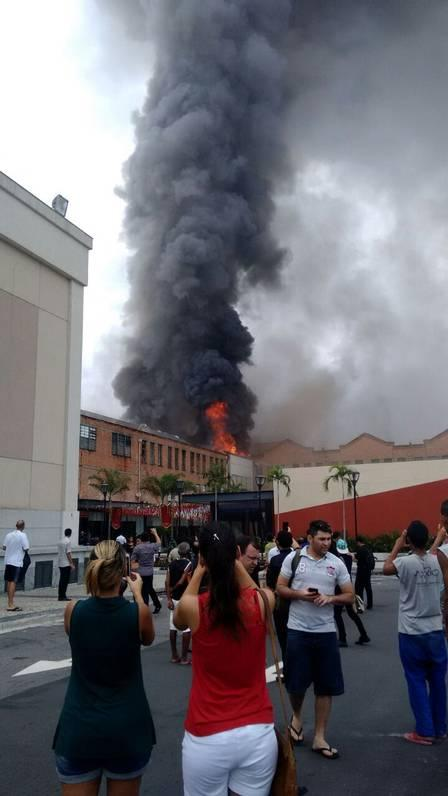smoke: (134, 130, 238, 360)
